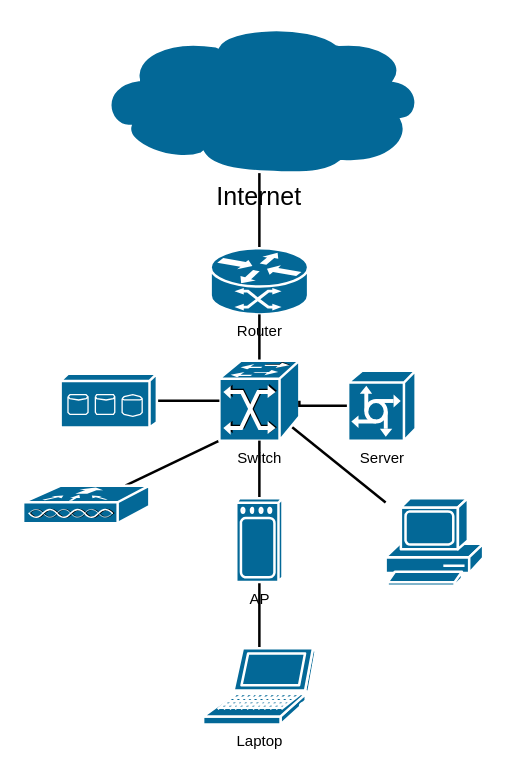
This 505x771 diagram has some shape labels left out. The shapes that lost their labels are listed below. From the top down, each one's box as (x1, y1, x2, y2) in pixels, then its label:
(59, 372, 158, 428): Storage
(21, 484, 150, 524): Radio controller
(384, 496, 484, 586): PC
